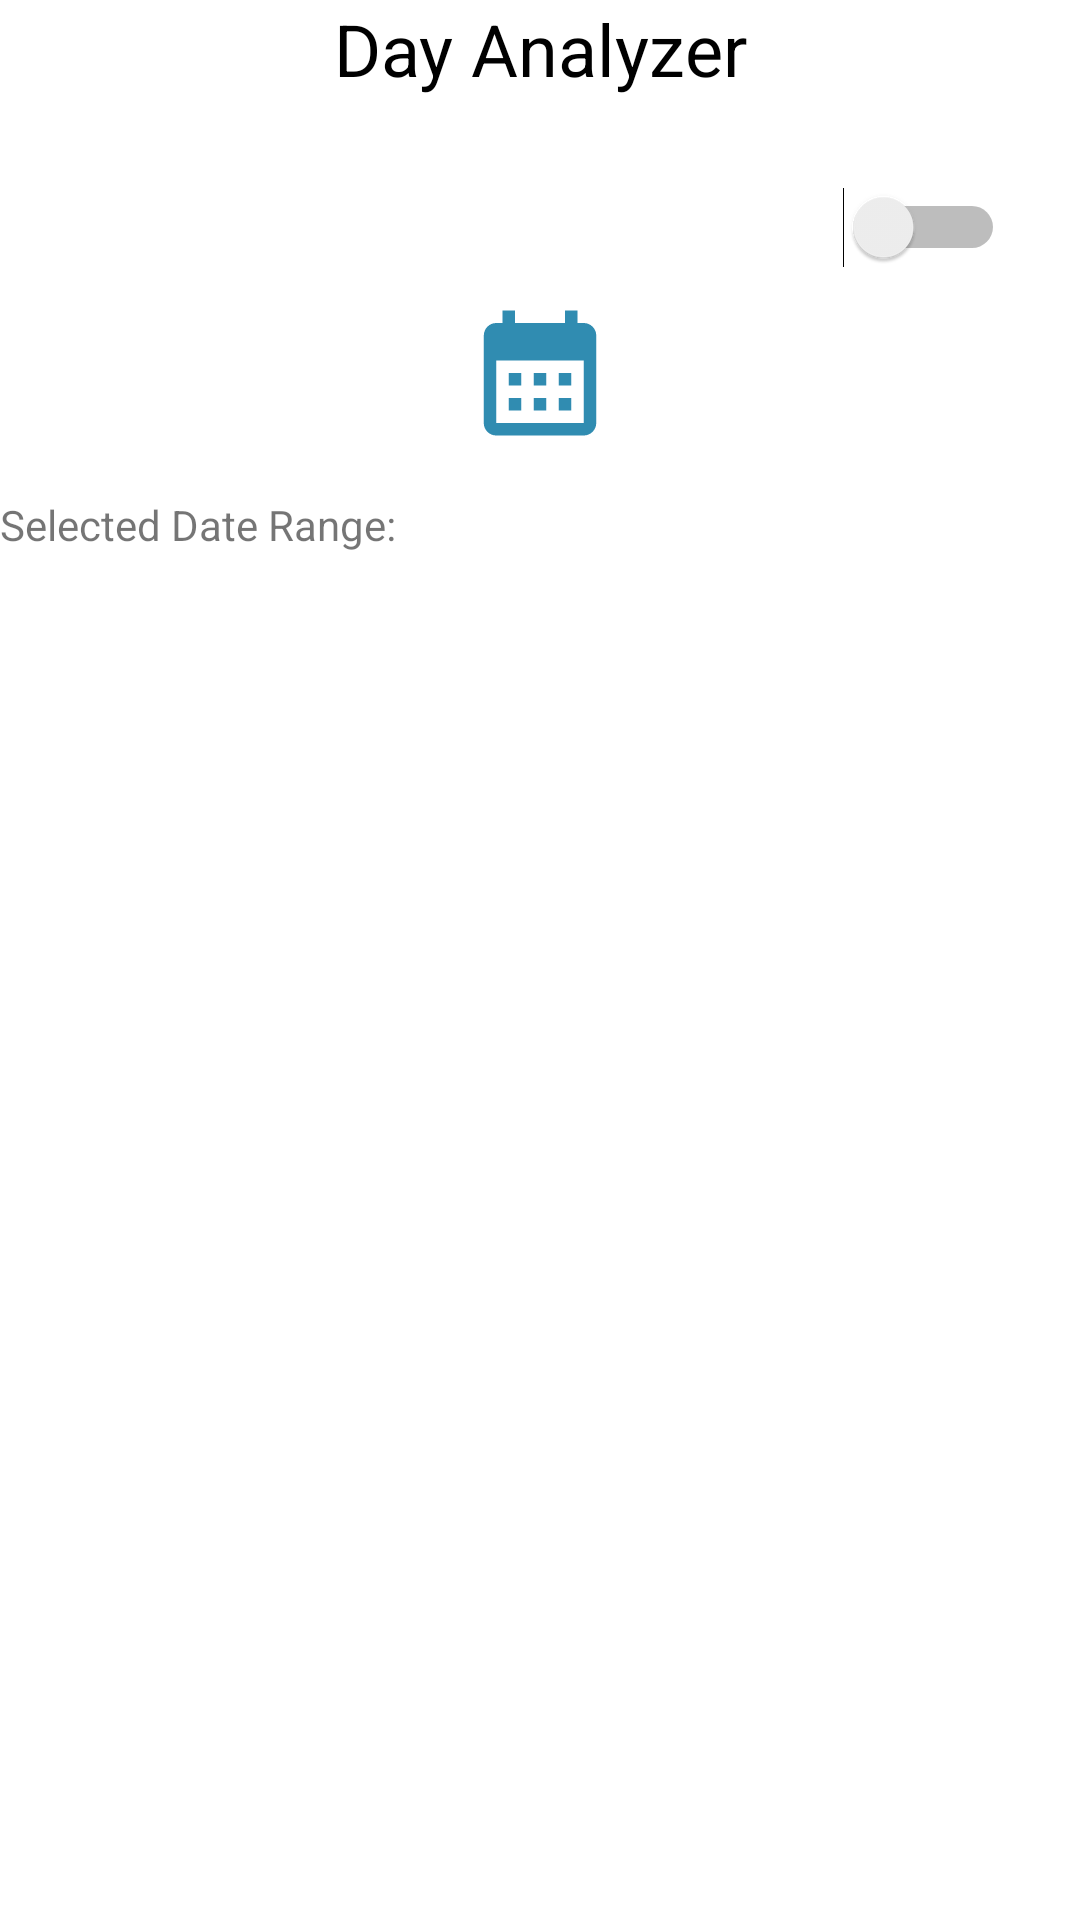

Icon bounding boxes for this 1080 x 1920 phone screenshot, format region(x1, y1, x2, y2):
calendar month: region(483, 310, 597, 436)
